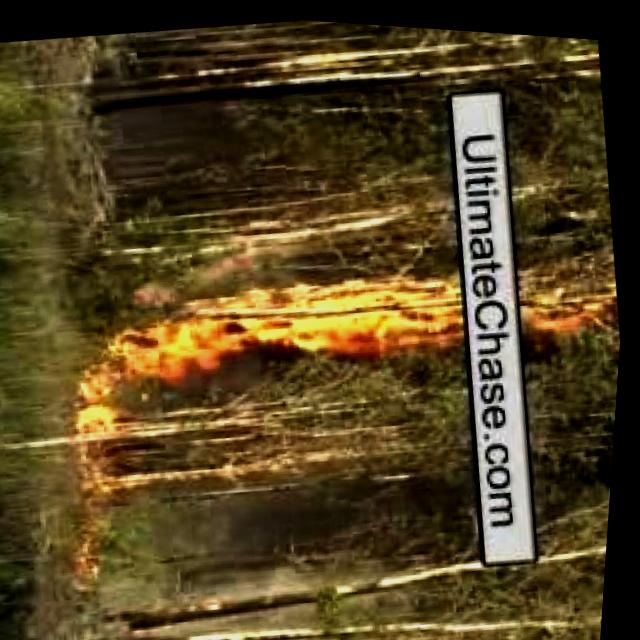helmet: (208, 256, 462, 366), (66, 289, 222, 450), (528, 270, 616, 328)
